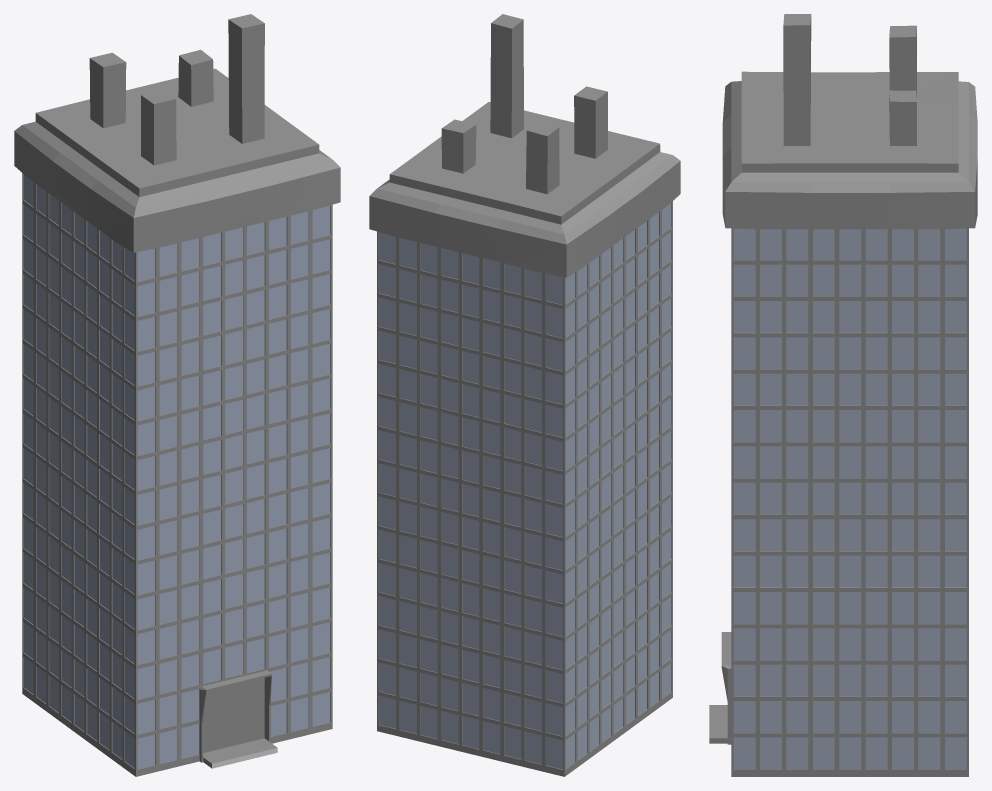
The model's file is Gebouw2.FBX.
3 views of the same model, side by side, from view 1: azimuth 30°, elevation 25°; view 2: azimuth 150°, elevation 25°; view 3: azimuth 270°, elevation 25° (orthographic). The views are drawn at different scales.
Parts seen in each view (by area): view 1: windows, Box001; view 2: windows, Box001; view 3: windows, Box001.
Part boxes in pixels (x1,y1,x2,y2): windows: (24,175,330,768); Box001: (14,14,340,776); windows: (379,203,671,769); Box001: (369,14,680,776); windows: (733,228,966,769); Box001: (709,14,977,776).
Bounding box in the file's own units: 194 × 204 × 611.
